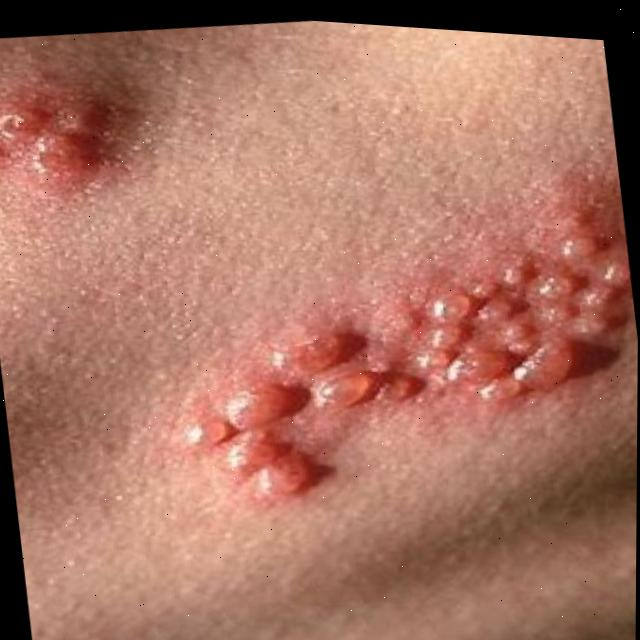Shingles: (161, 179, 639, 531), (0, 84, 113, 190)
